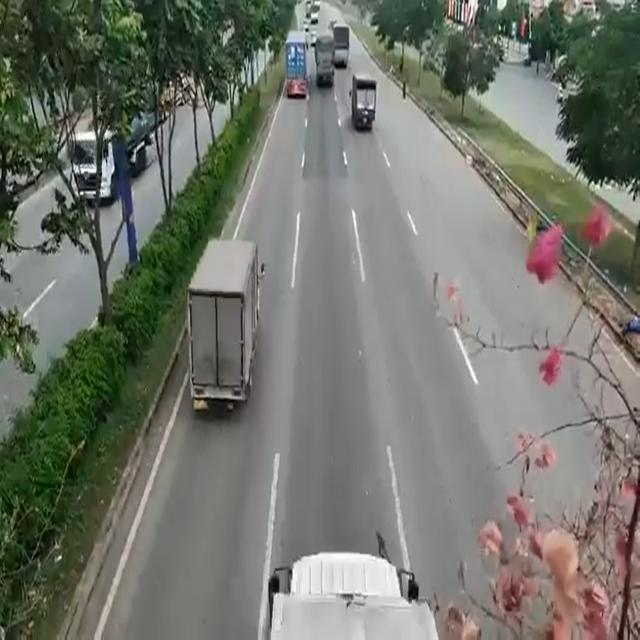truck: (187, 240, 261, 408), (349, 76, 376, 130), (287, 34, 306, 99), (331, 22, 350, 70), (317, 40, 336, 87)
